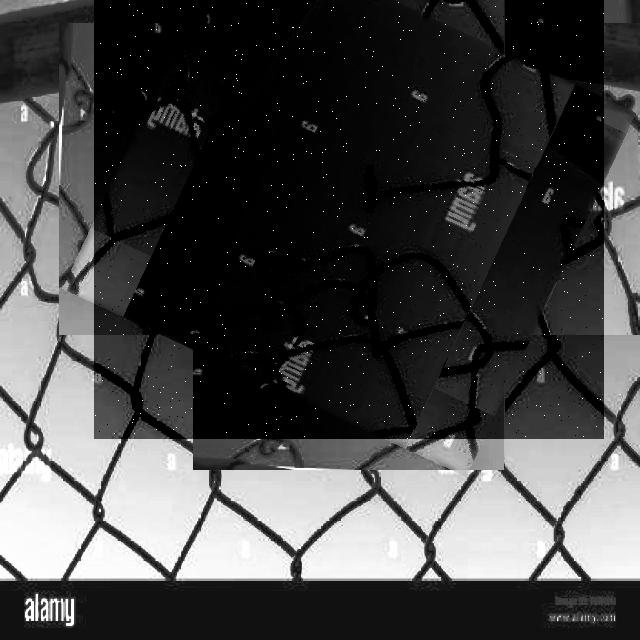anomaly-fence: (94, 0, 604, 439)
